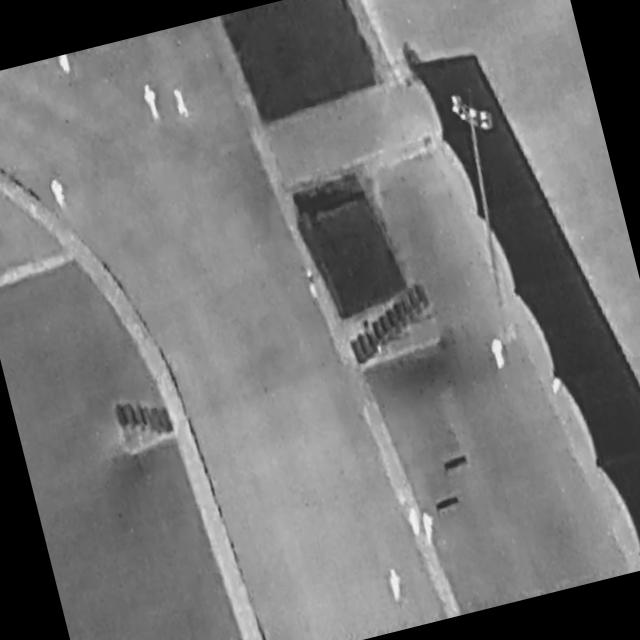person: (139, 84, 163, 122), (387, 567, 408, 605), (488, 338, 509, 371), (171, 88, 191, 120), (49, 177, 69, 209), (406, 508, 423, 540), (422, 512, 438, 543), (304, 268, 320, 298), (56, 54, 75, 76)
